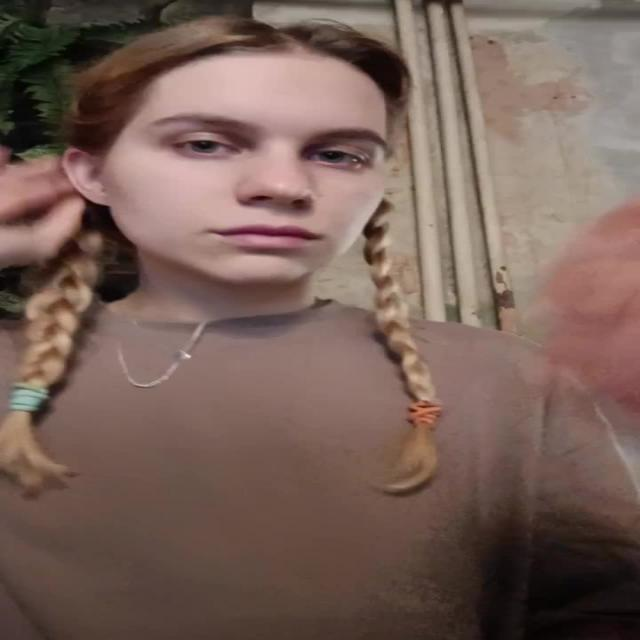earlobe: (60, 145, 111, 206)
